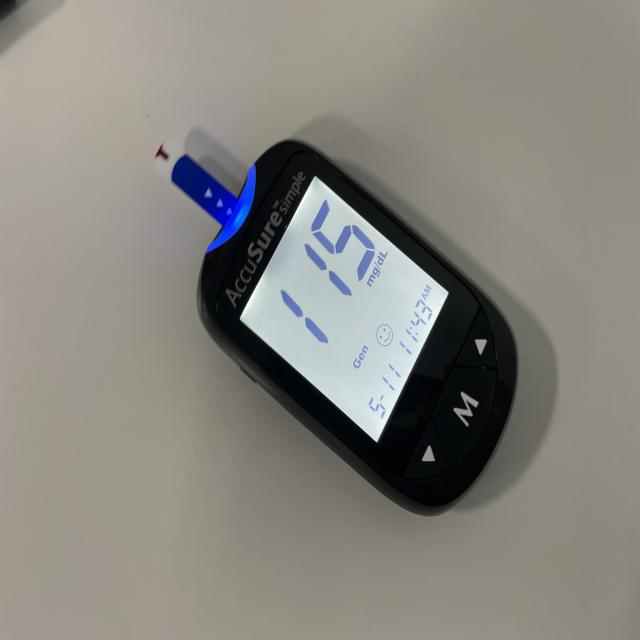gluco: (170, 141, 520, 518)
